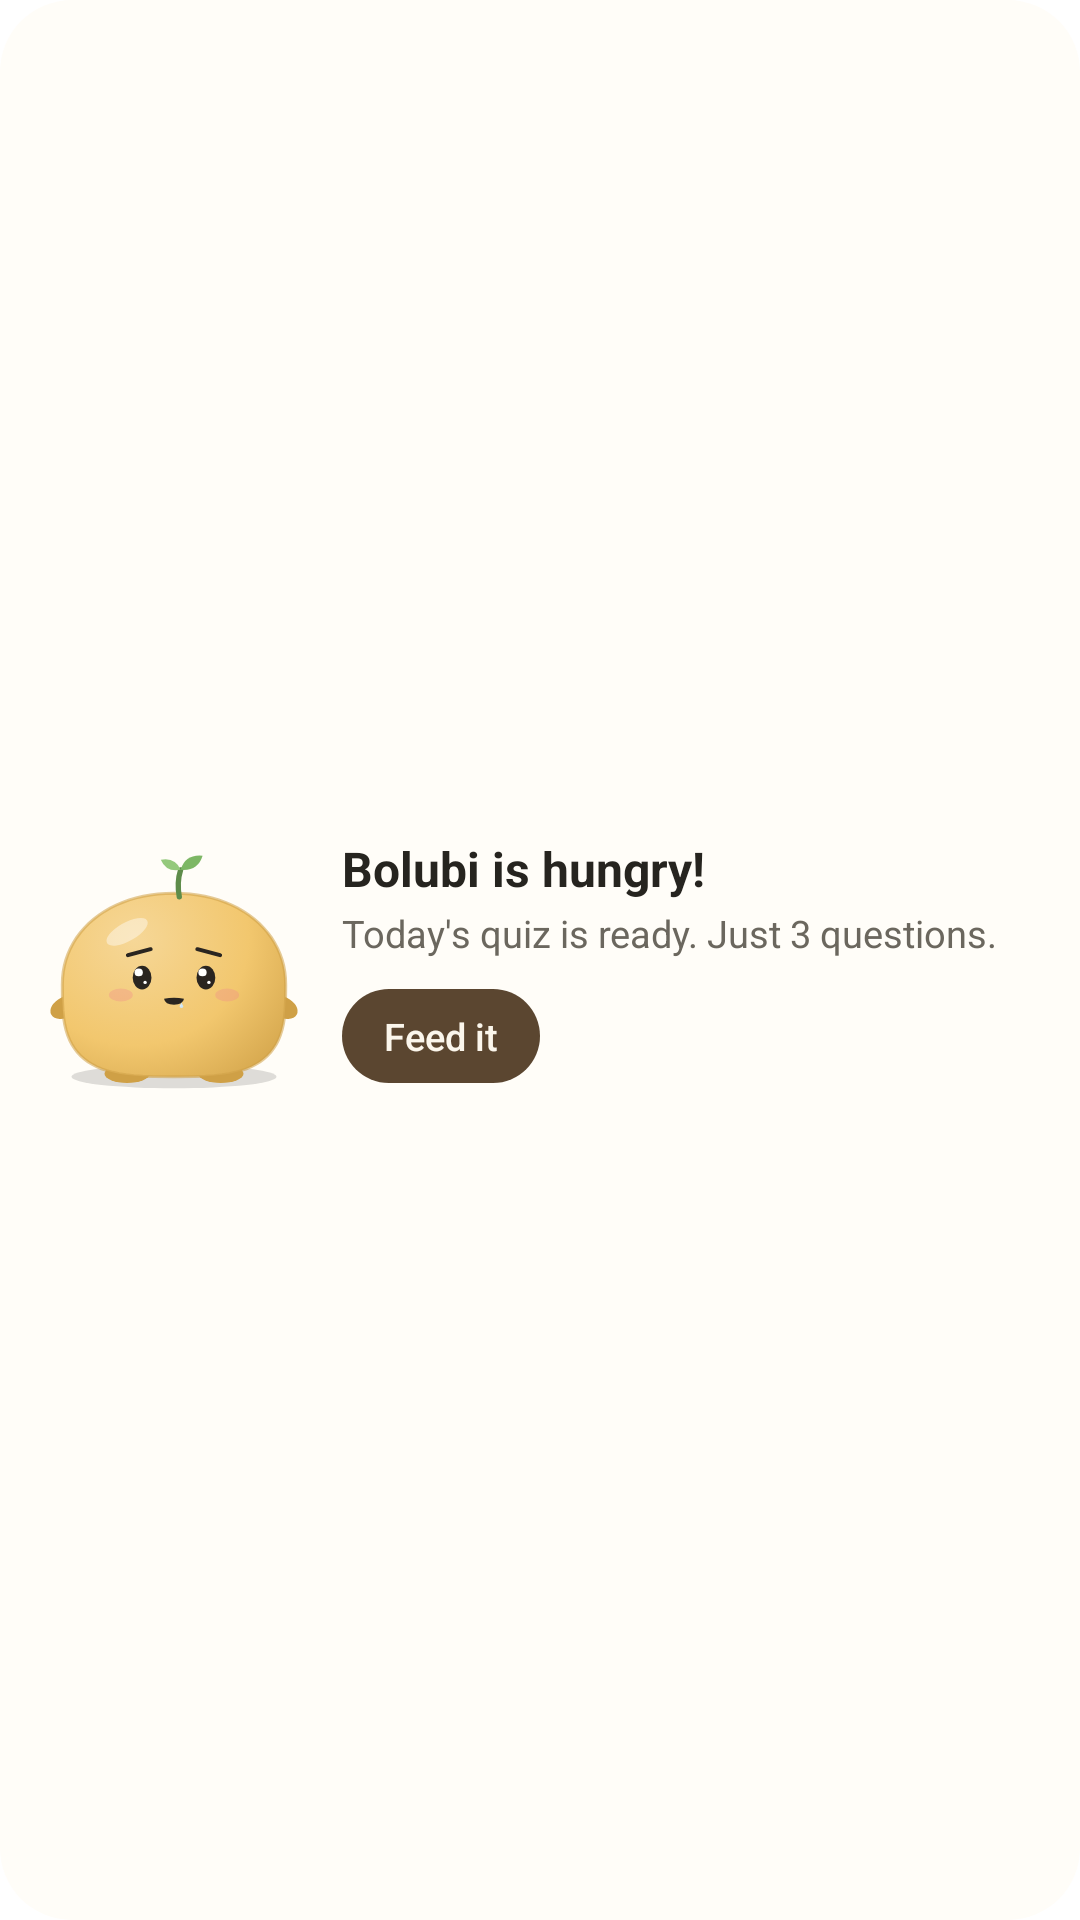

Icon bounding boxes for this 1080×1920 phone screenshot, format (x1, y1, x2, y2):
Your pet: (50, 855, 298, 1088)
